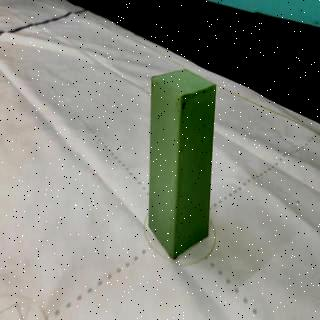greenbox: (150, 70, 216, 262)
